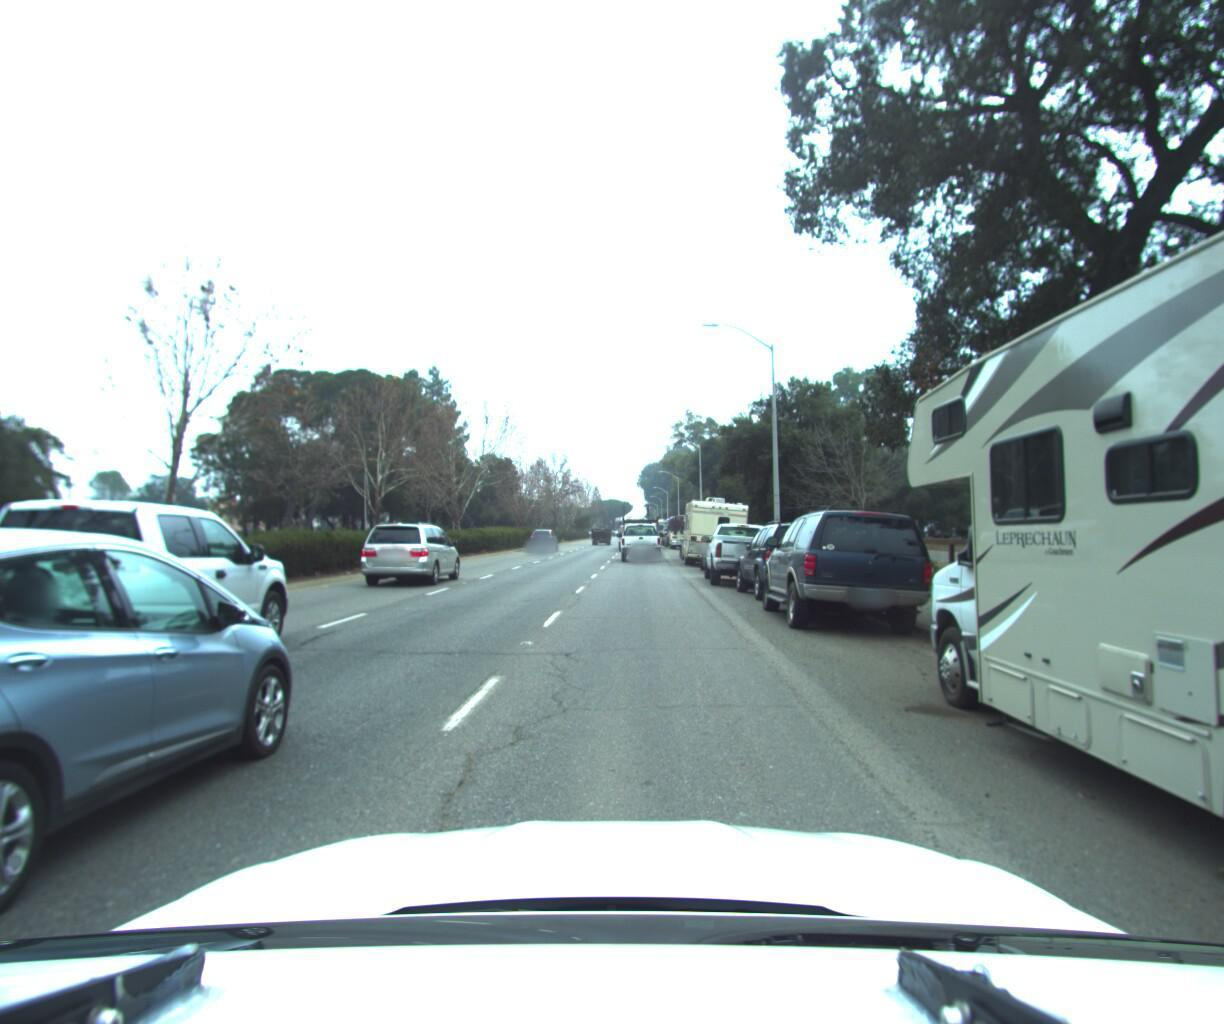car: (0, 513, 327, 978), (0, 481, 316, 727), (761, 498, 946, 638), (730, 513, 851, 602), (355, 516, 466, 585), (703, 514, 789, 584), (693, 530, 760, 569), (621, 513, 668, 558), (530, 528, 562, 552), (592, 522, 615, 541)
other_vehicle: (882, 0, 1224, 1024), (679, 487, 756, 564), (665, 511, 698, 543)
truck: (625, 499, 657, 543)
